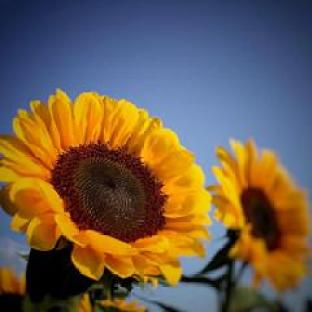sunflower: (0, 90, 213, 312)
